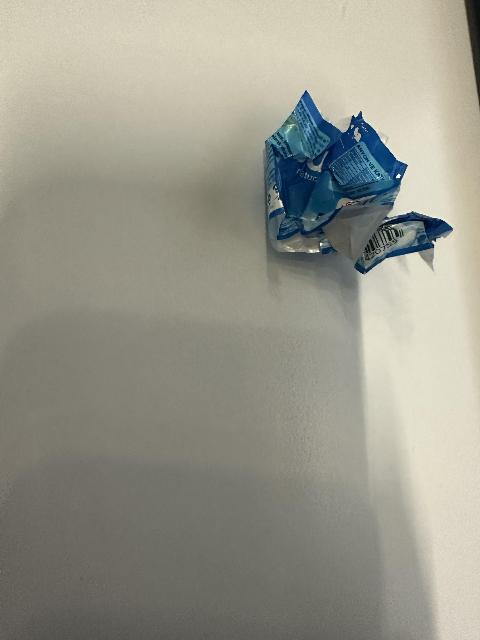Plastik: (260, 87, 451, 286)
